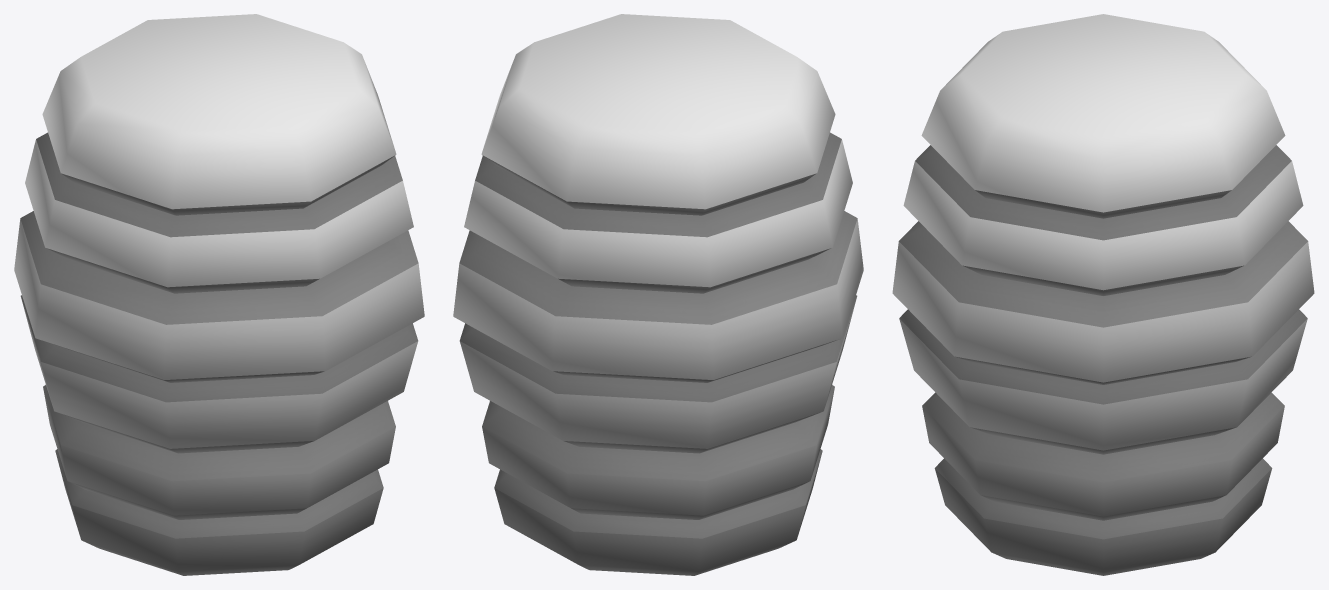
File: stone_grip_057.glb
3 renders of one model, left to right at view 1: azimuth 30°, elevation 25°; view 2: azimuth 150°, elevation 25°; view 3: azimuth 270°, elevation 25°, orthographic.
Visible parts, largest first — view 1: stone_grip.057; view 2: stone_grip.057; view 3: stone_grip.057.
Boxes of the visible parts, bbox=[...] form: stone_grip.057: bbox=[14, 14, 424, 575]; stone_grip.057: bbox=[453, 14, 863, 575]; stone_grip.057: bbox=[892, 14, 1314, 575].
Bounding box in the file's own units: 2.58 × 3 × 2.58.
Materials: 1 (1 with a texture image).
